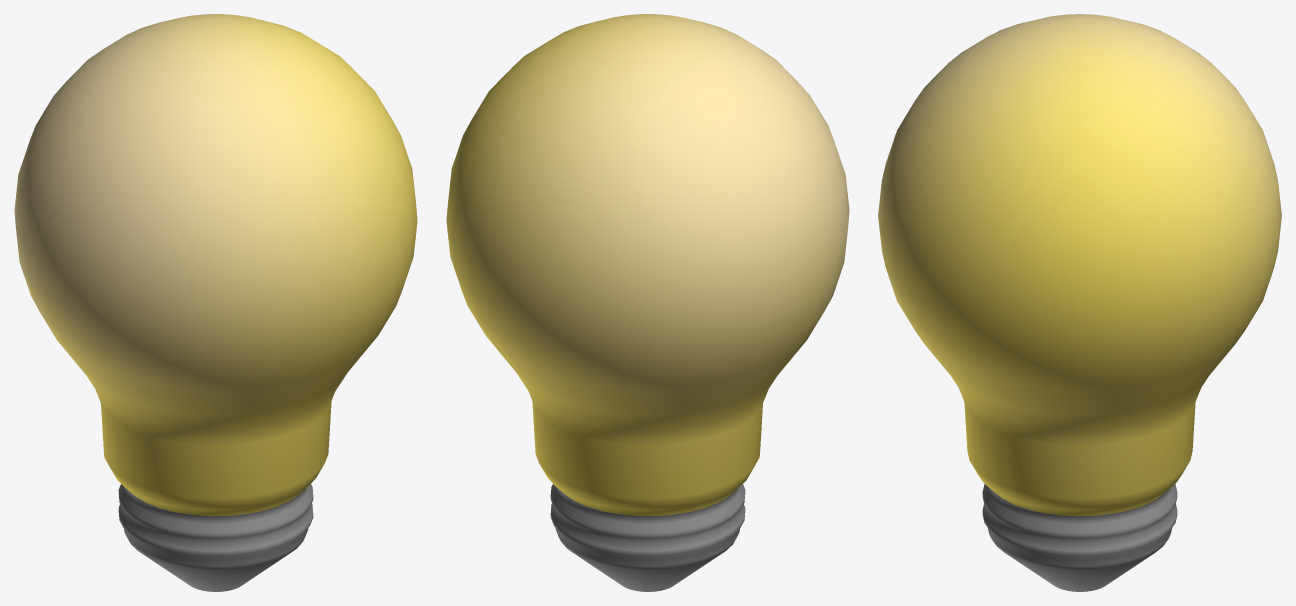
Rendered from dengpao.FBX.
3 views of the same model, side by side, from view 1: azimuth 30°, elevation 25°; view 2: azimuth 150°, elevation 25°; view 3: azimuth 270°, elevation 25° (orthographic).
Visible parts, largest first — view 1: dengpao; view 2: dengpao; view 3: dengpao.
Part boxes in pixels (x1,y1,x2,y2): dengpao: [14, 14, 417, 591]; dengpao: [446, 14, 849, 591]; dengpao: [878, 14, 1281, 591].
Size of the model in its own units: 118 by 177 by 118.
